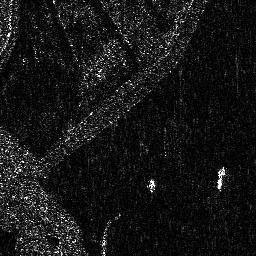ship: (216, 165, 226, 191)
